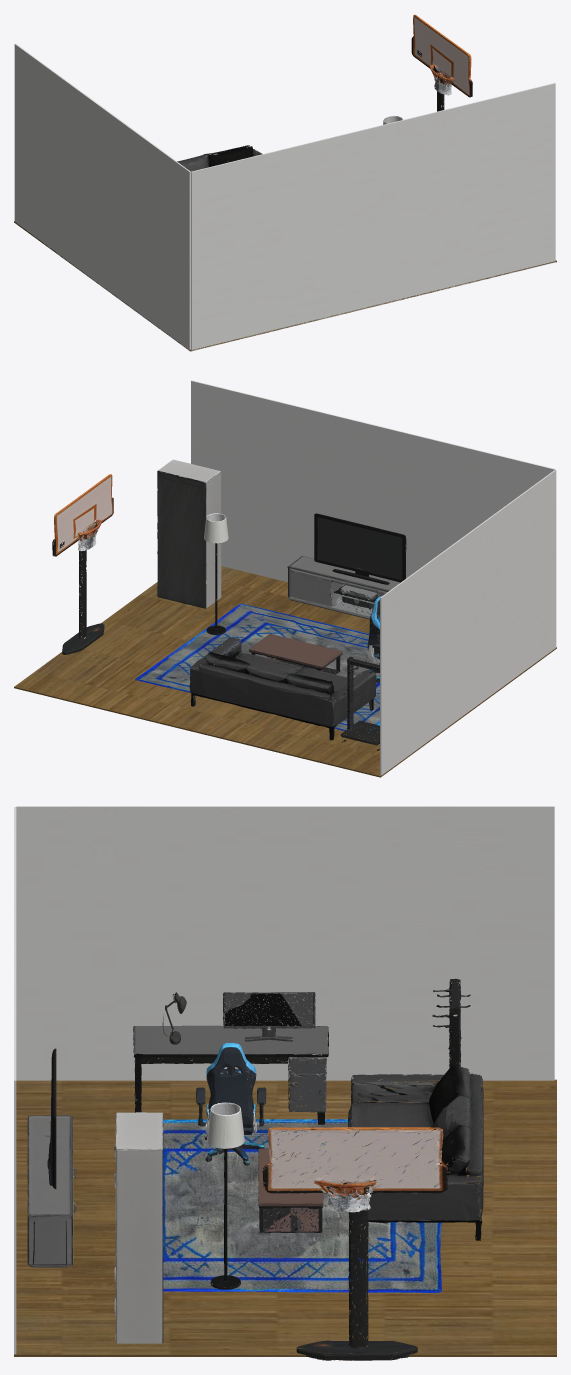
The model's file is text-functional-entertainment-room.glb.
The picture shows the model from 3 angles, top to bottom: view 1: azimuth 30°, elevation 25°; view 2: azimuth 150°, elevation 25°; view 3: azimuth 270°, elevation 25°; orthographic projection. The views are drawn at different scales.
Parts seen in each view (by area): view 1: wall_north_01, wall_east_01, geometry_0.007, geometry_0, floor_01; view 2: wall_north_01, wall_east_01, floor_01, geometry_0, geometry_0.006, geometry_0.009, geometry_0.010, geometry_0.007, geometry_0.004, geometry_0.001, geometry_0.008, geometry_0.005 (+1 smaller); view 3: wall_east_01, floor_01, geometry_0.009, geometry_0.007, geometry_0, geometry_0.006, geometry_0.002, geometry_0.004, geometry_0.003, geometry_0.011, geometry_0.001, geometry_0.005 (+3 smaller).
Boxes of the visible parts, x1,y1,x2,y2 form: wall_north_01: [191, 83, 555, 350]; wall_east_01: [14, 43, 190, 350]; geometry_0.007: [411, 14, 472, 111]; geometry_0: [177, 145, 262, 171]; floor_01: [14, 221, 556, 351]; wall_north_01: [191, 380, 555, 592]; wall_east_01: [380, 469, 556, 775]; floor_01: [14, 563, 556, 777]; geometry_0: [189, 637, 376, 740]; geometry_0.006: [157, 459, 221, 608]; geometry_0.009: [135, 604, 379, 732]; geometry_0.010: [314, 513, 406, 584]; geometry_0.007: [52, 474, 113, 654]; geometry_0.004: [287, 556, 400, 619]; geometry_0.001: [248, 633, 342, 674]; geometry_0.008: [340, 656, 379, 750]; geometry_0.005: [204, 513, 228, 634]; wall_east_01: [16, 806, 554, 1080]; floor_01: [14, 1079, 556, 1356]; geometry_0.009: [162, 1119, 441, 1292]; geometry_0.007: [262, 1127, 448, 1360]; geometry_0: [348, 1064, 483, 1240]; geometry_0.006: [114, 1112, 163, 1343]; geometry_0.002: [133, 1025, 328, 1124]; geometry_0.004: [27, 1115, 76, 1267]; geometry_0.003: [196, 1043, 266, 1165]; geometry_0.011: [223, 992, 315, 1041]; geometry_0.001: [258, 1148, 323, 1232]; geometry_0.005: [206, 1102, 244, 1289].
Bounding box in the file's own units: 6.08 × 2.8 × 5.
Materials: 17 (17 with a texture image).
